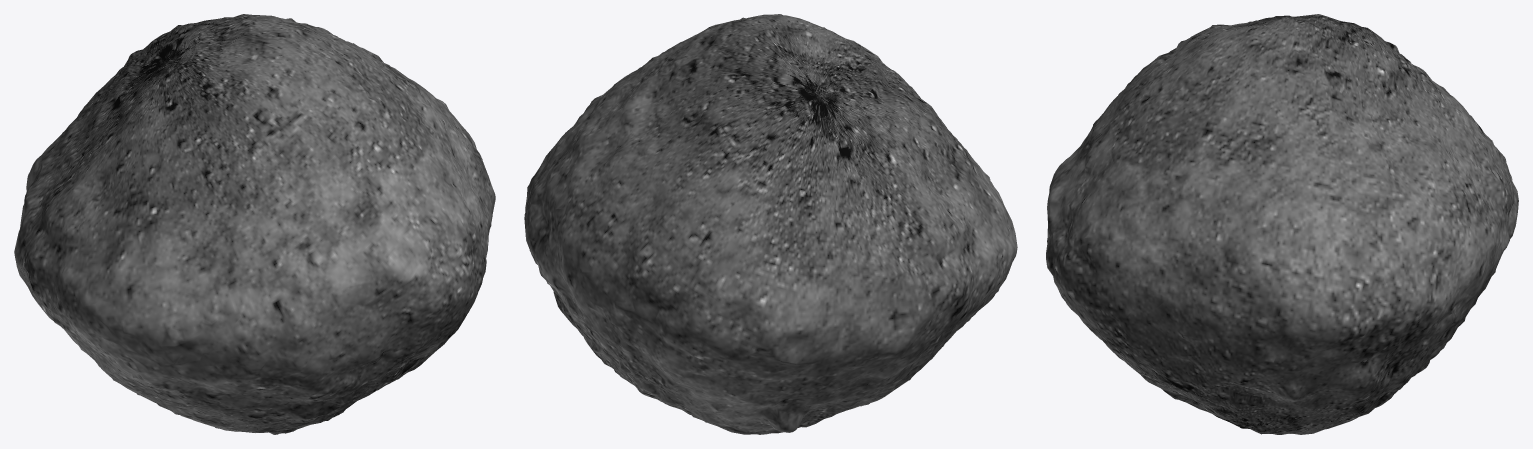
Rendered from asteroid-optimized.glb.
3 renders of one model, left to right at view 1: azimuth 30°, elevation 25°; view 2: azimuth 150°, elevation 25°; view 3: azimuth 270°, elevation 25°, orthographic.
Parts seen in each view (by area): view 1: Object_4; view 2: Object_4; view 3: Object_4.
Boxes of the visible parts, x1,y1,x2,y2 form: Object_4: (14, 14, 495, 434); Object_4: (524, 14, 1017, 434); Object_4: (1046, 14, 1518, 434).
Size of the model in its own units: 0.5626 by 0.4978 by 0.5353.
1 material, 1 textured.
